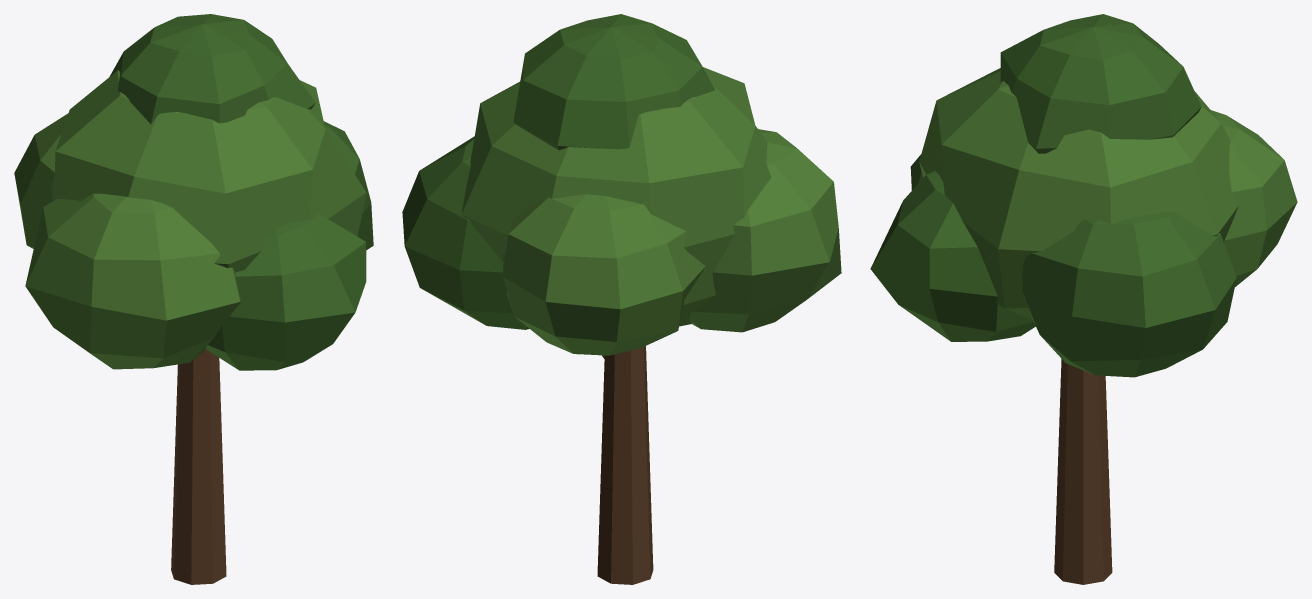
Rendered from tree_oak.glb.
3 renders of one model, left to right at view 1: azimuth 30°, elevation 25°; view 2: azimuth 150°, elevation 25°; view 3: azimuth 270°, elevation 25°, orthographic.
Visible parts, largest first — view 1: tree_oak; view 2: tree_oak; view 3: tree_oak.
Boxes of the visible parts, bbox=[...] form: tree_oak: bbox=[14, 14, 373, 584]; tree_oak: bbox=[402, 14, 841, 584]; tree_oak: bbox=[870, 14, 1297, 584].
Size of the model in its own units: 4.26 by 5.85 by 4.12.
